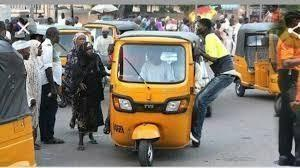keke: (104, 25, 202, 165), (236, 18, 284, 100)
